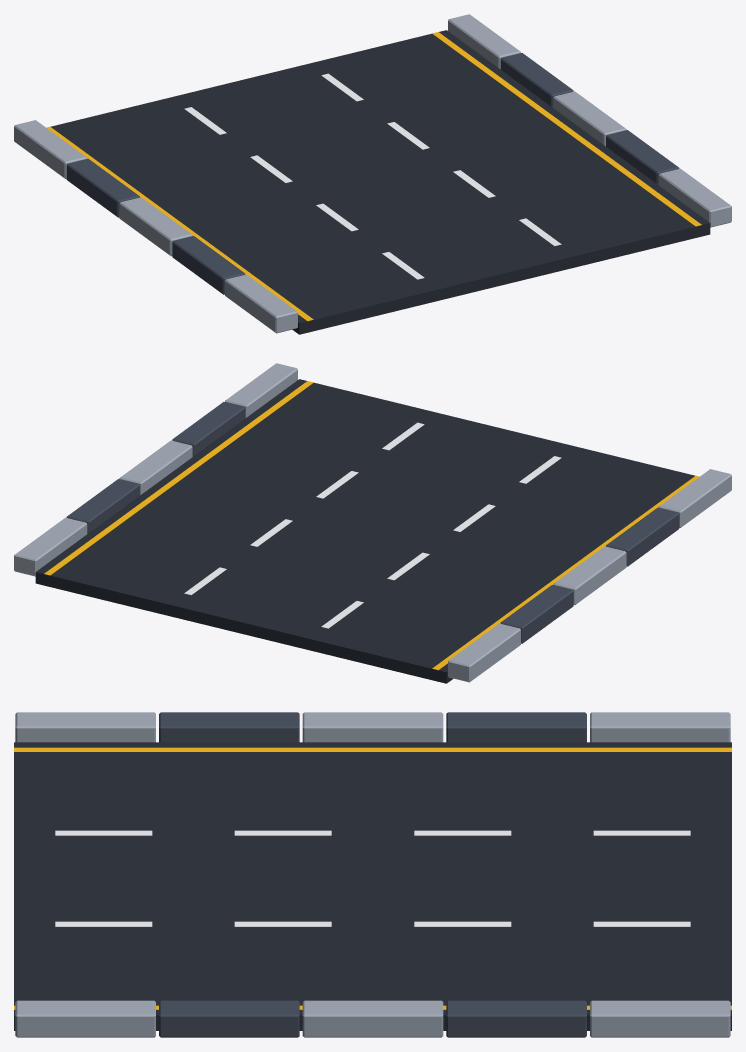
The model's file is City_Road_10m.fbx.
3 views of the same model, one above another, from view 1: azimuth 30°, elevation 25°; view 2: azimuth 150°, elevation 25°; view 3: azimuth 270°, elevation 25° (orthographic). The views are drawn at different scales.
Parts seen in each view (by area): view 1: City_Road_10m; view 2: City_Road_10m; view 3: City_Road_10m.
Boxes of the visible parts, left/top/right/bottom form: City_Road_10m: left=14, top=14, right=731, bottom=334; City_Road_10m: left=14, top=363, right=731, bottom=683; City_Road_10m: left=14, top=712, right=731, bottom=1037.
Bounding box in the file's own units: 10 × 0.48 × 10.
